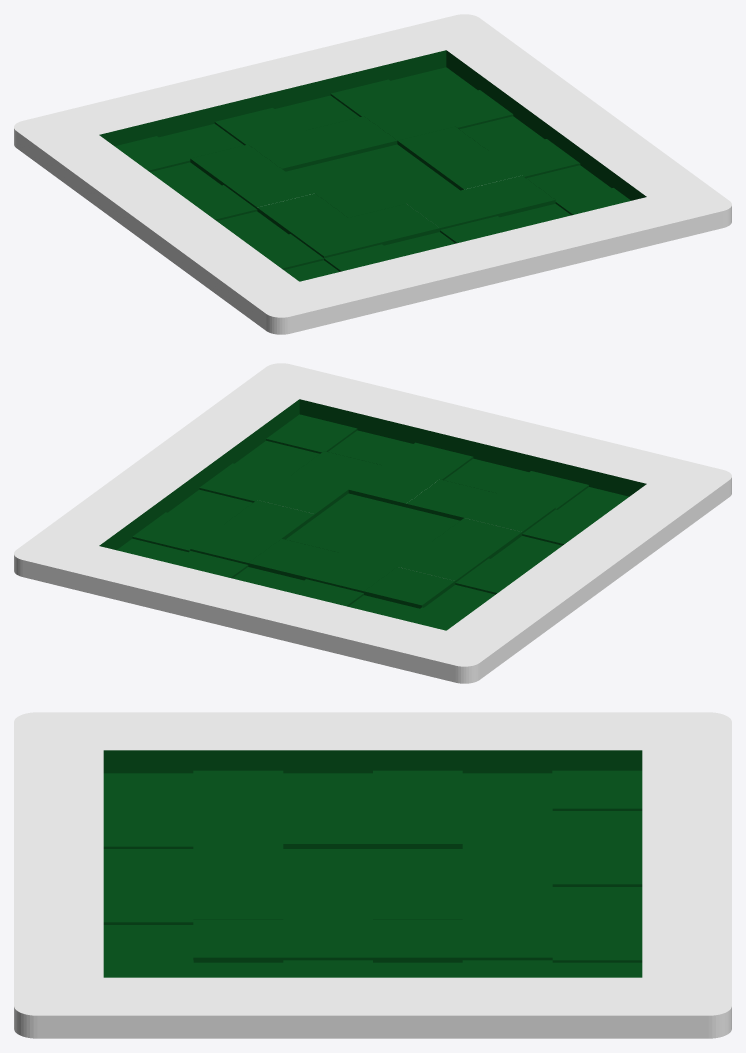
File: San vuon.fbx
3 views of the same model, one above another, from view 1: azimuth 30°, elevation 25°; view 2: azimuth 150°, elevation 25°; view 3: azimuth 270°, elevation 25° (orthographic). The views are drawn at different scales.
Parts seen in each view (by area): view 1: san vuon; view 2: san vuon; view 3: san vuon.
Part boxes in pixels (x1,y1,x2,y2): san vuon: [14, 14, 731, 334]; san vuon: [14, 363, 731, 683]; san vuon: [14, 712, 731, 1038].
Bounding box in the file's own units: 403 × 14.21 × 403.
